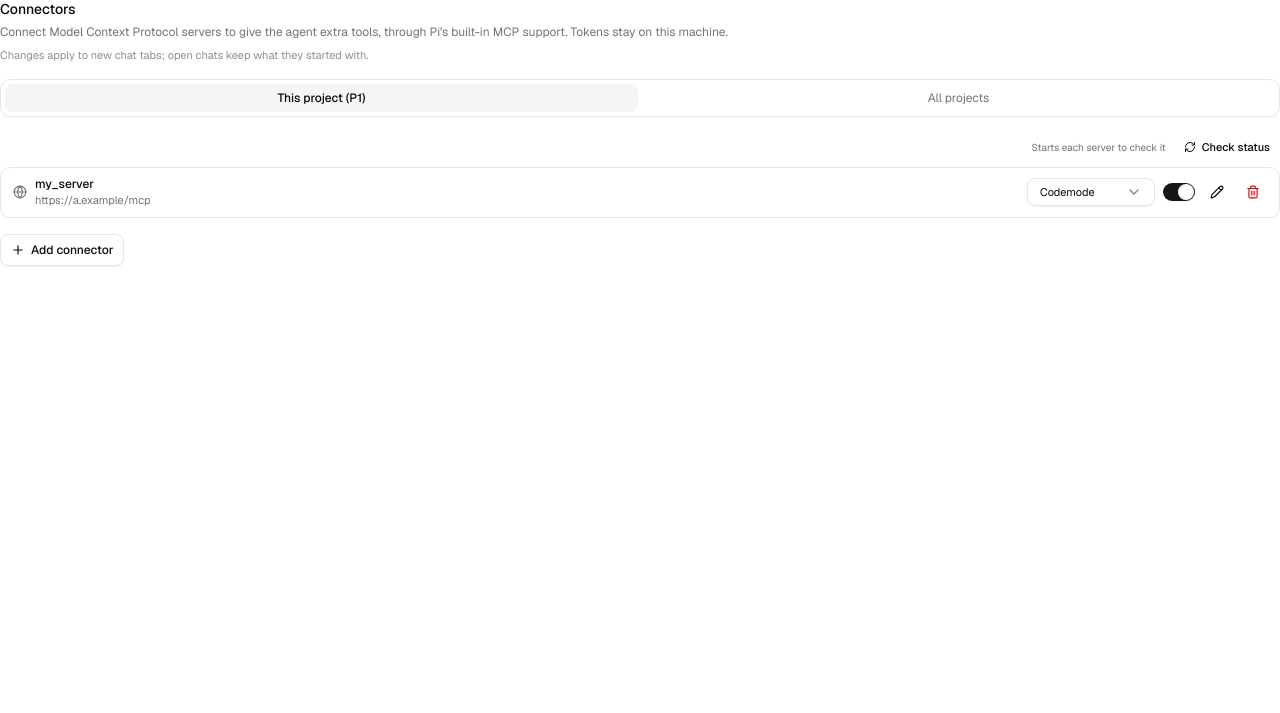
Scenario: ConnectorsPanel provider sign-ins › refuses a name that folds onto an existing connector
Click the button "Add connector".
click(62, 250)  # box [0,234,124,266]
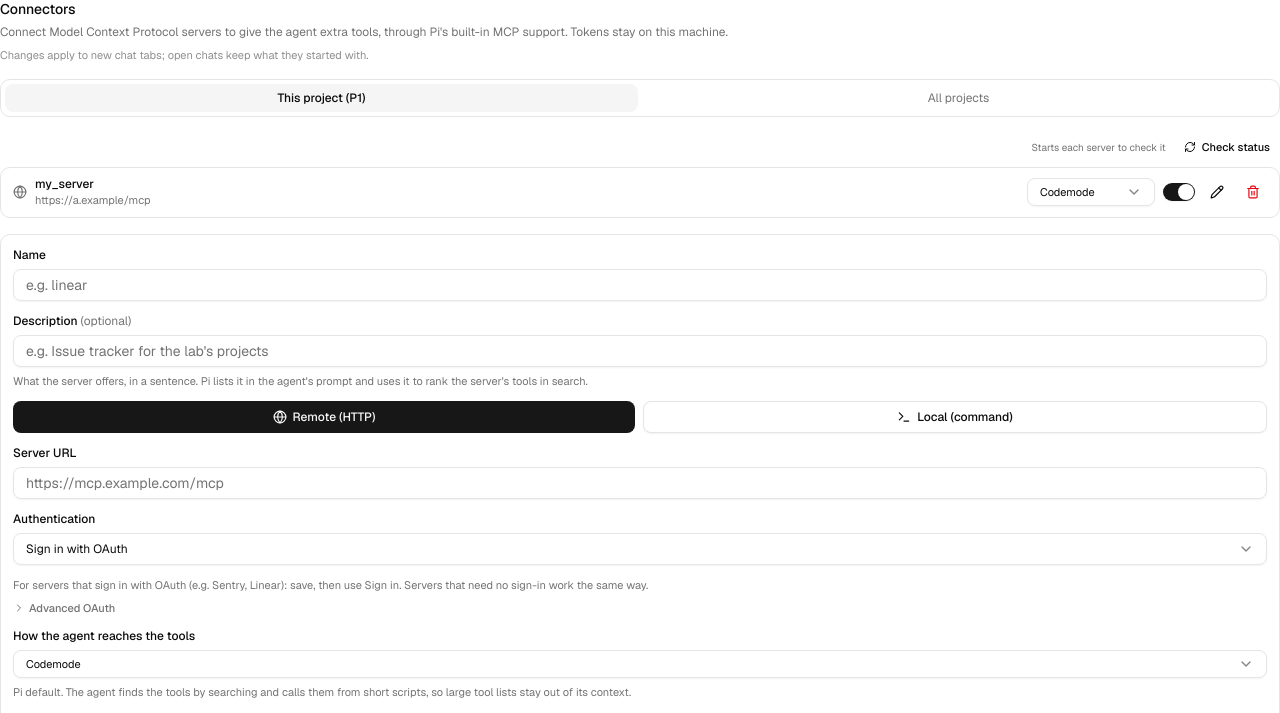
Type "my-server" into the field with placeholder "e.g. linear".
click(640, 284); type("my-server")  # box [13,268,1267,300]
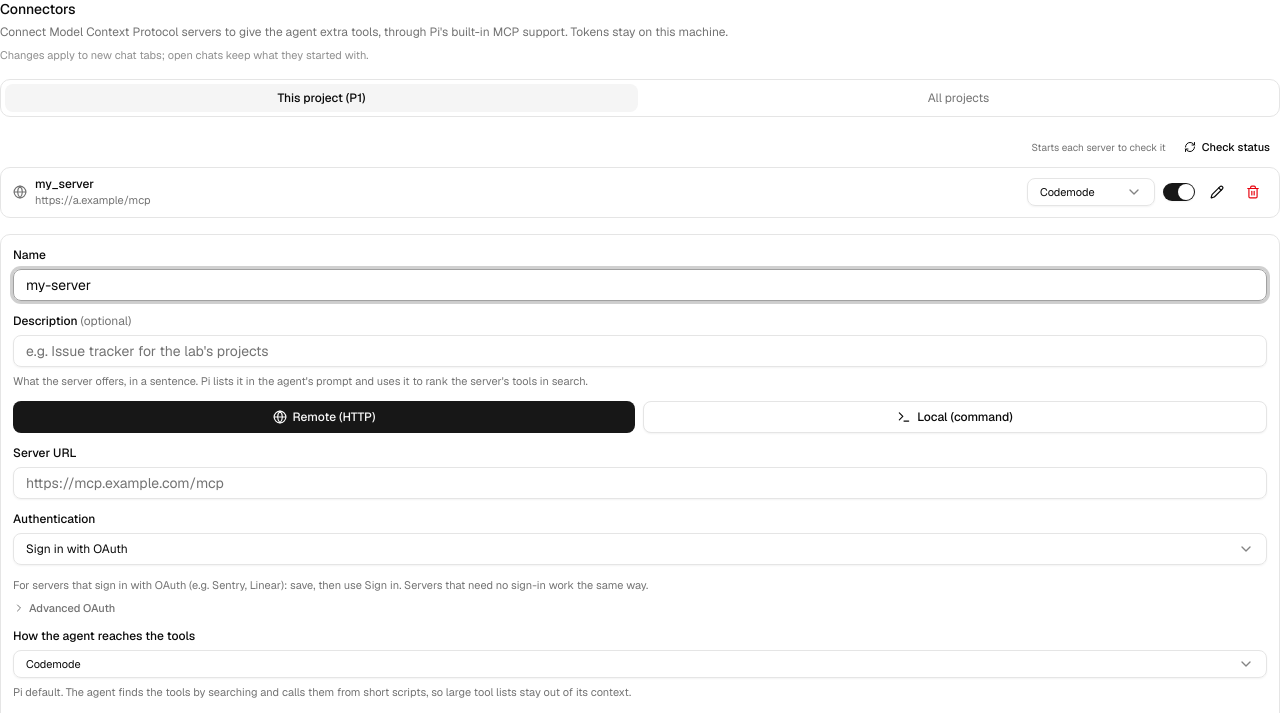
Type "https://b.example/mcp" into the field with placeholder "https://mcp.example.com/mcp".
click(640, 483); type("https://b.example/mcp")  # box [13,467,1267,499]
(page scrolled)
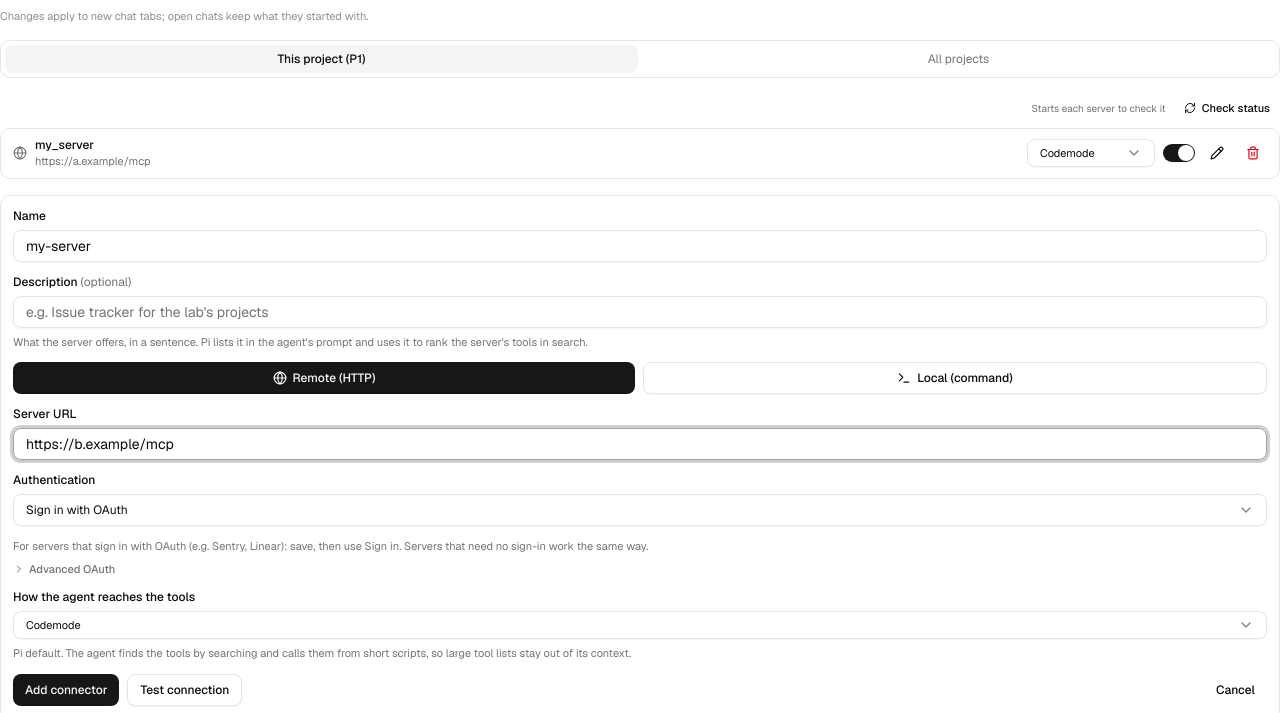
Click the button "Add connector".
click(66, 690)  # box [13,674,119,706]
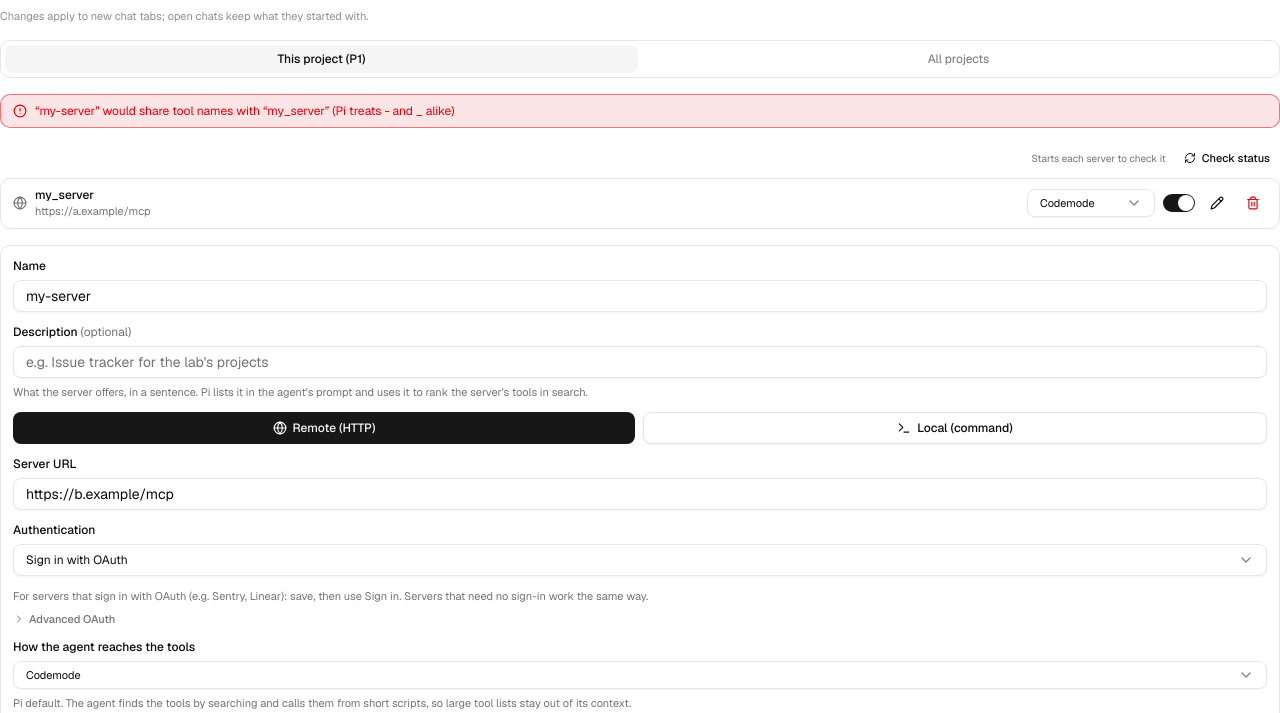
Expected: the text "would share tool names with “my_server”" is shown, [35,103,454,119]
